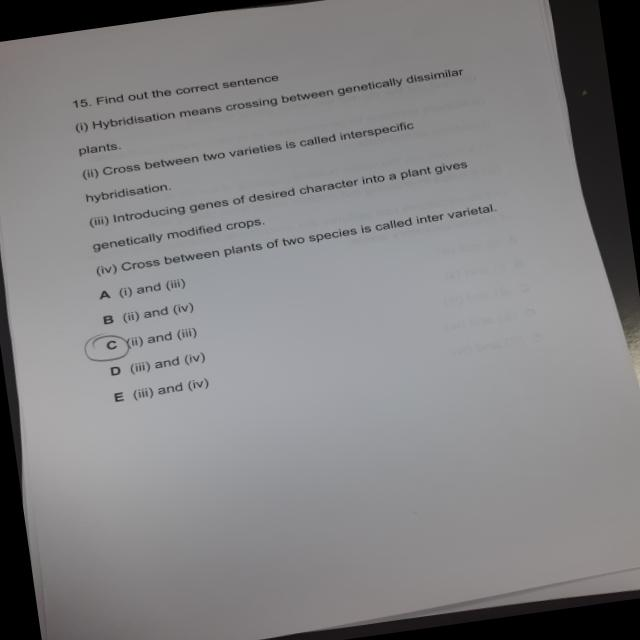C: (81, 331, 135, 369)
